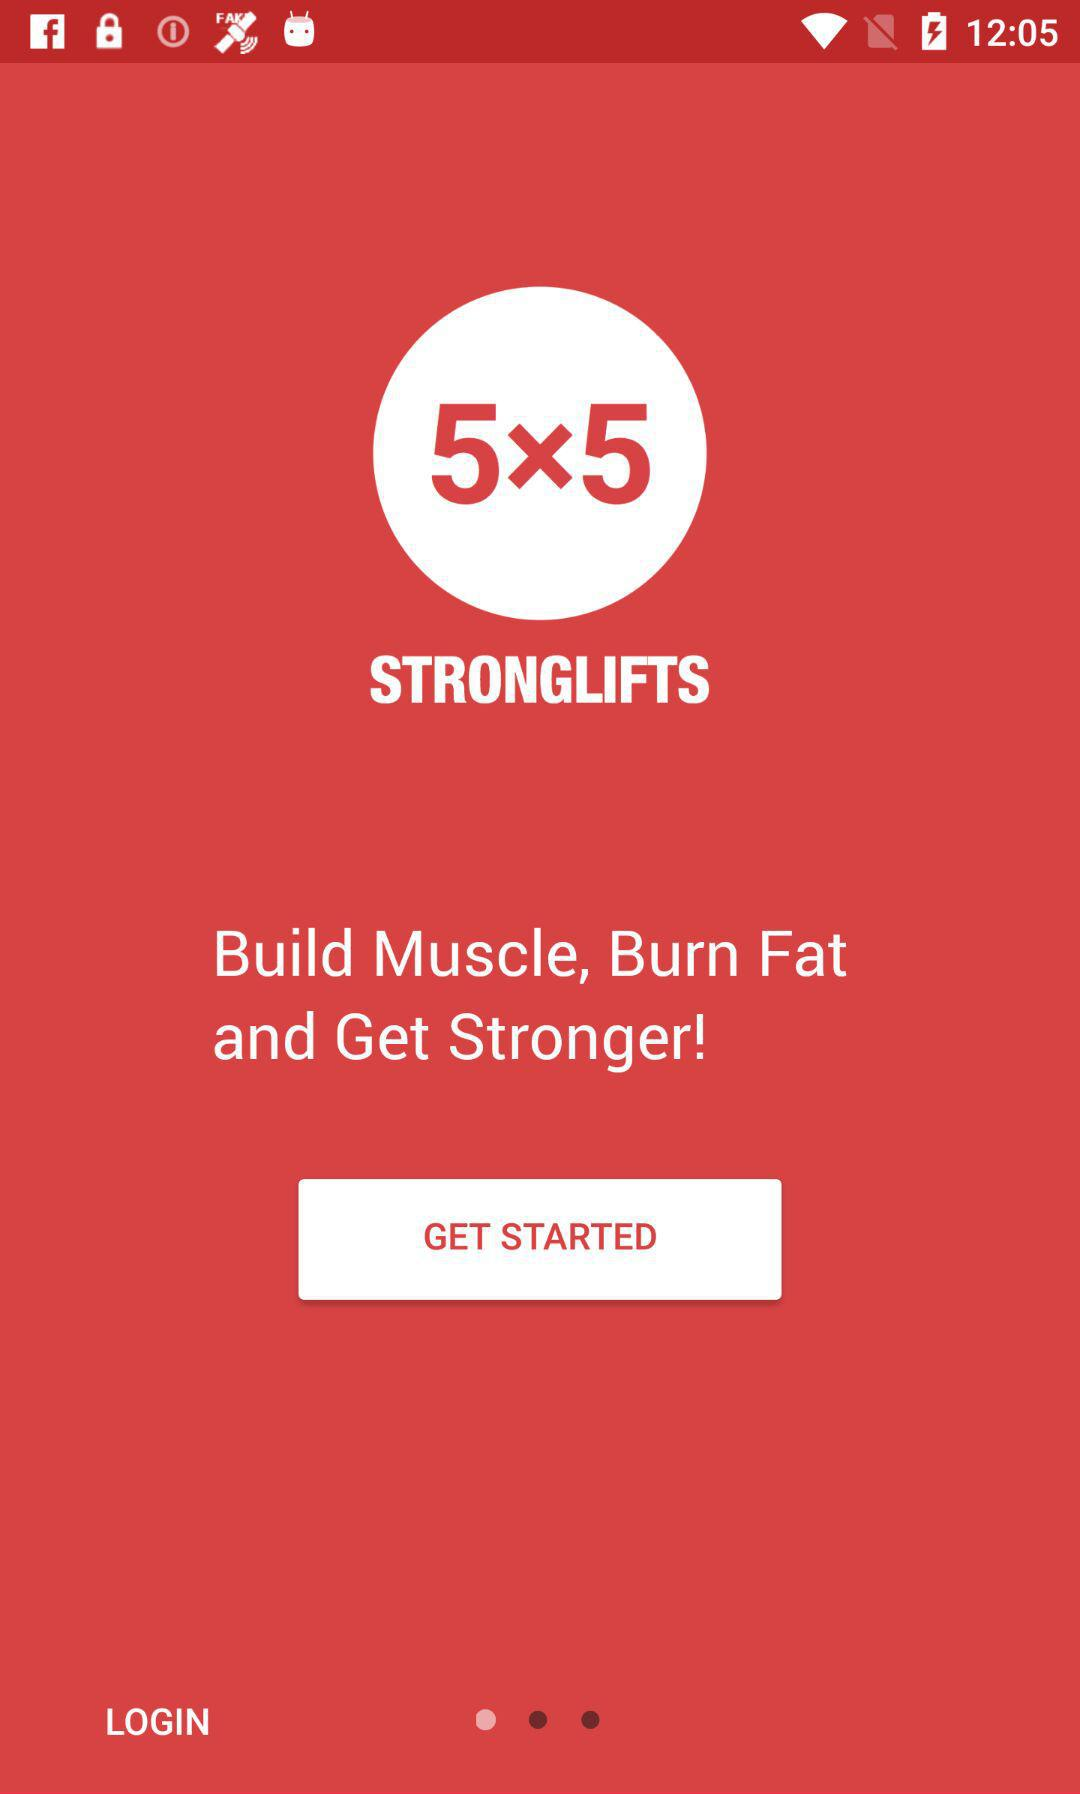Image: (372, 286, 708, 623)
PageIndicator: (475, 1707, 601, 1732)
Text: (214, 926, 848, 1075), (370, 655, 710, 706), (108, 1707, 210, 1738)
TextButton: (299, 1178, 783, 1301)
UpperTaskBar: (1, 1, 1080, 64)
